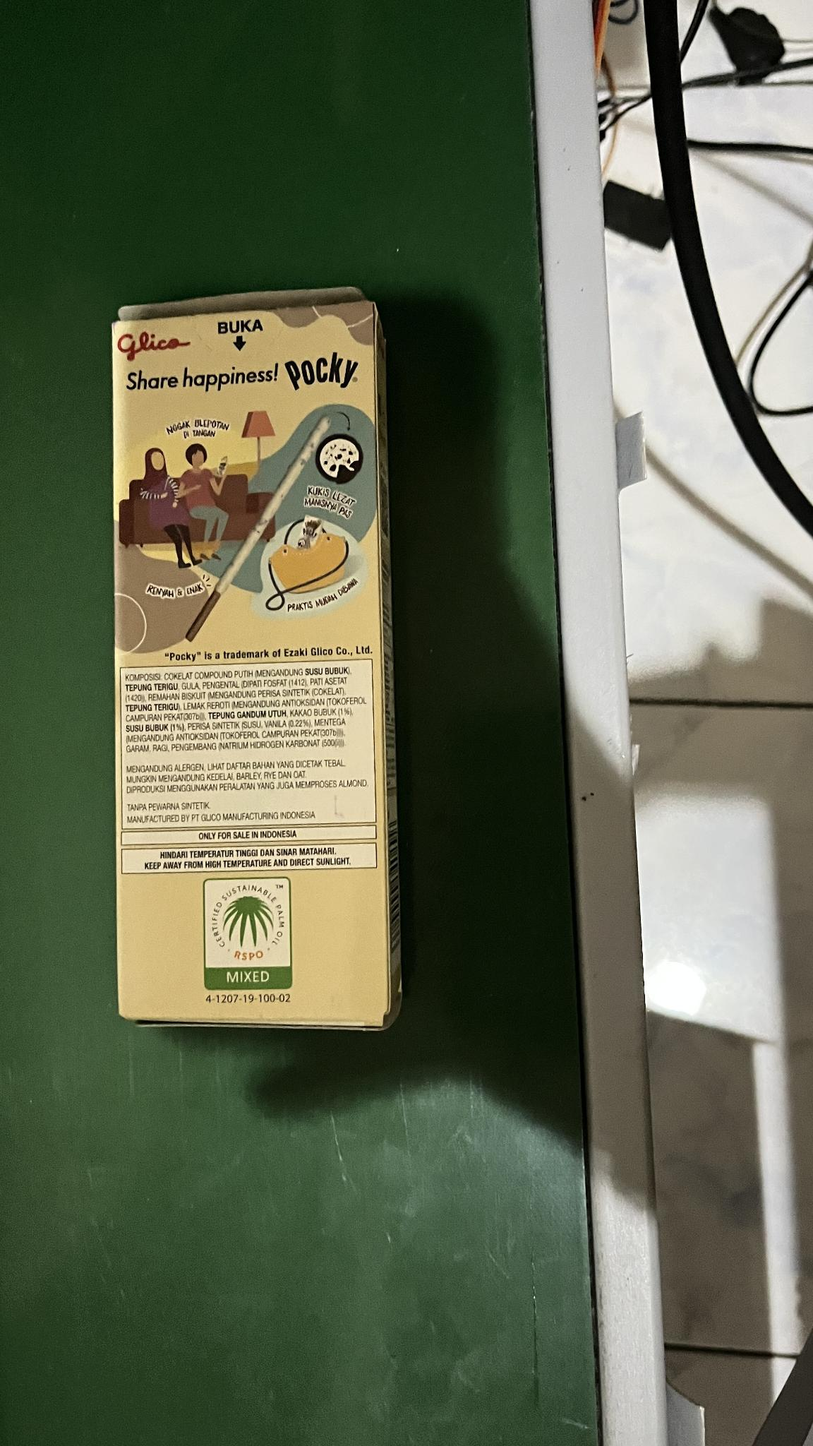Kertas: (108, 298, 412, 1026)
